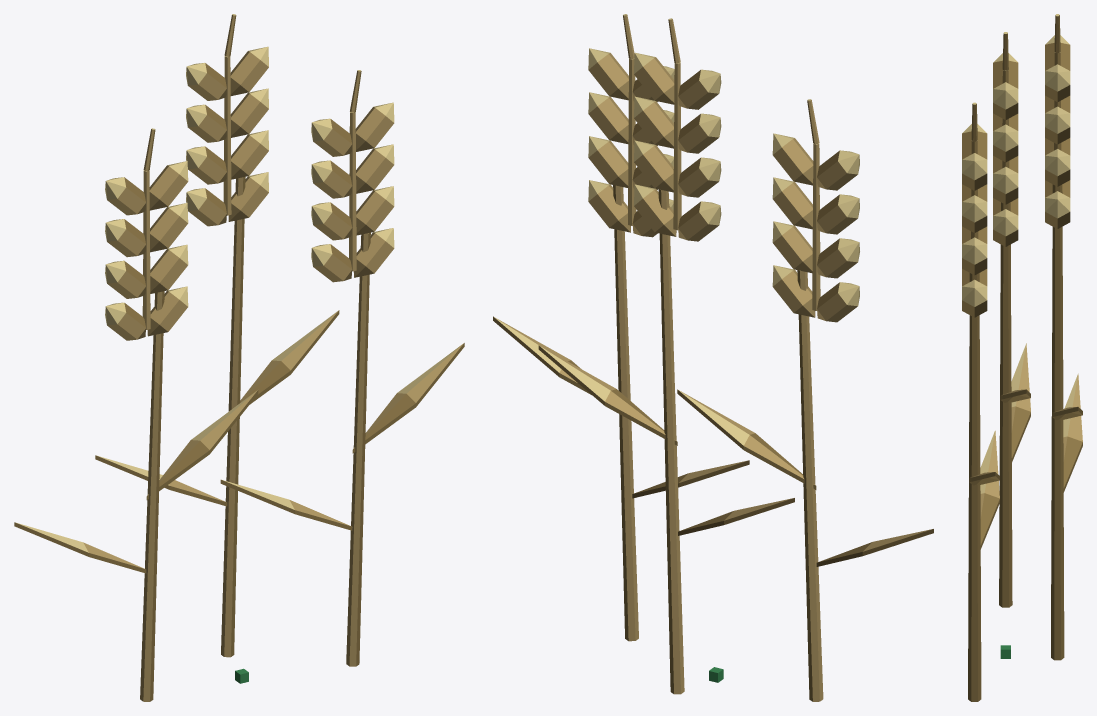
File: wheat_stage_04.fbx
3 renders of one model, left to right at view 1: azimuth 30°, elevation 25°; view 2: azimuth 150°, elevation 25°; view 3: azimuth 270°, elevation 25°, orthographic. The views are drawn at different scales.
Visible parts, largest first — view 1: wheat_stage_04, wheat_stage_04__Foliage; view 2: wheat_stage_04, wheat_stage_04__Foliage; view 3: wheat_stage_04__Foliage, wheat_stage_04.
Boxes of the visible parts, x1,y1,x2,y2 form: wheat_stage_04: [105, 14, 394, 340]; wheat_stage_04__Foliage: [14, 176, 464, 701]; wheat_stage_04: [588, 14, 859, 322]; wheat_stage_04__Foliage: [493, 185, 933, 701]; wheat_stage_04__Foliage: [968, 184, 1082, 701]; wheat_stage_04: [962, 14, 1070, 317].
Size of the model in its own units: 1.96 by 2.77 by 0.4665.
Materials: 1 (1 with a texture image).
